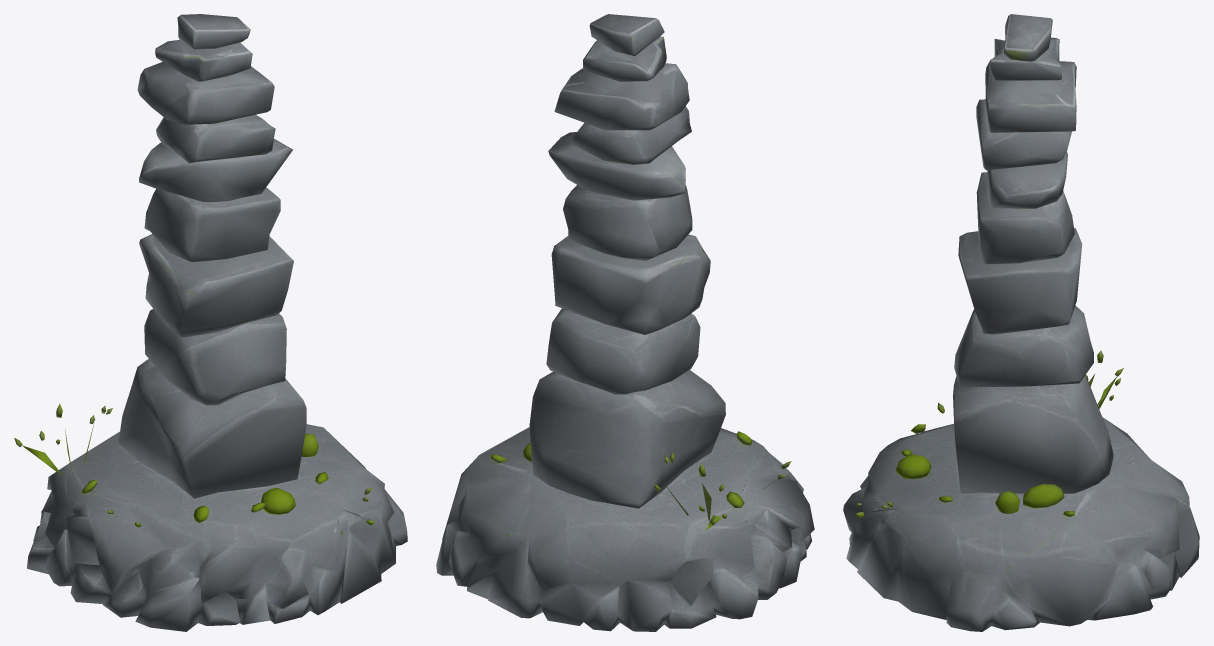
The model's file is cairn.glb.
The picture shows the model from 3 angles, left to right: view 1: azimuth 30°, elevation 25°; view 2: azimuth 150°, elevation 25°; view 3: azimuth 270°, elevation 25°; orthographic projection. The views are drawn at different scales.
Size of the model in its own units: 0.6089 by 0.9531 by 0.5854.
Materials: 1 (1 with a texture image).
